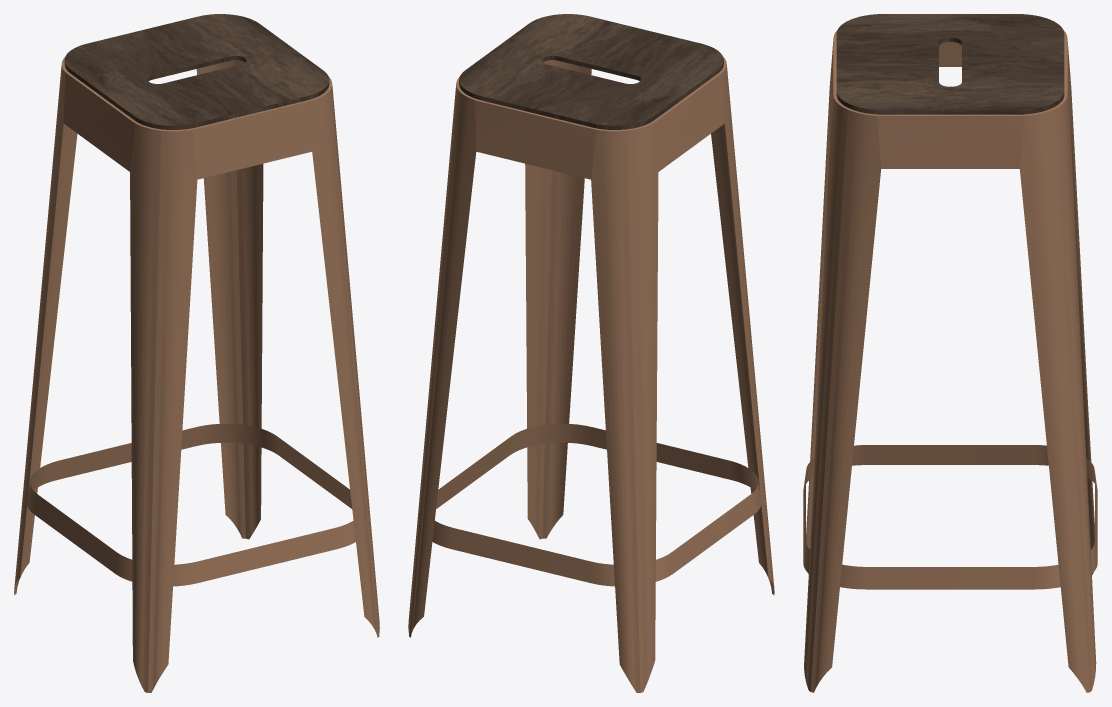
The model's file is bar_stool_gold.glb.
3 views of the same model, side by side, from view 1: azimuth 30°, elevation 25°; view 2: azimuth 150°, elevation 25°; view 3: azimuth 270°, elevation 25° (orthographic). The views are drawn at different scales.
Parts seen in each view (by area): view 1: Object_6, Object_4; view 2: Object_6, Object_4; view 3: Object_6, Object_4.
Boxes of the visible parts, x1,y1,x2,y2 form: Object_6: (14,56,379,692); Object_4: (64,14,329,129); Object_6: (408,56,774,692); Object_4: (459,14,723,129); Object_6: (803,30,1097,692); Object_4: (836,14,1064,114).
Bounding box in the file's own units: 0.4164 × 0.8907 × 0.4164.
2 materials, 2 textured.
